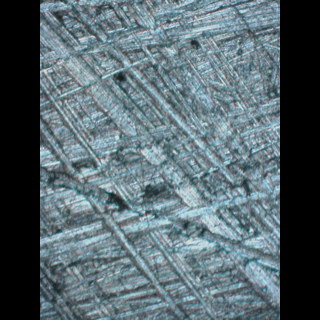d: (39, 51, 275, 319)
